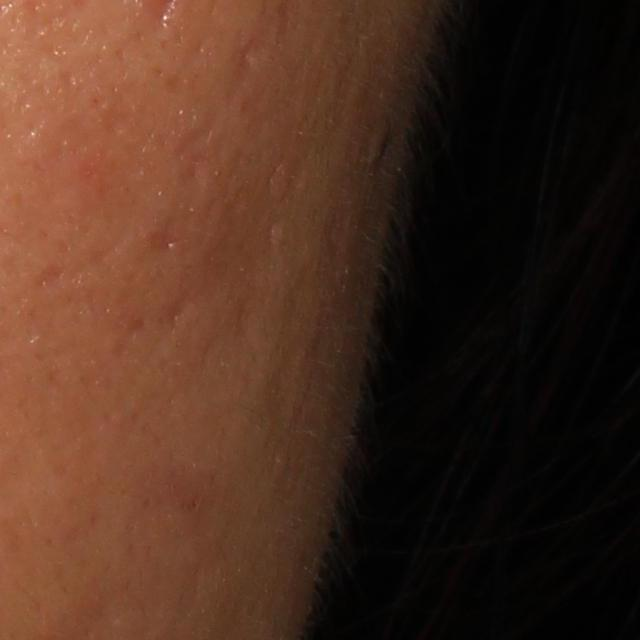atrophic_scar: (157, 283, 195, 331), (30, 263, 68, 292), (232, 39, 264, 72)
